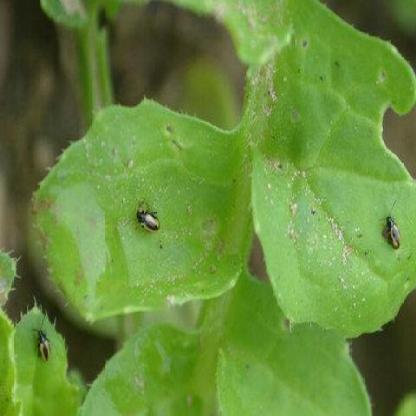beetle: (381, 201, 406, 256), (136, 195, 166, 240), (32, 328, 58, 373)
